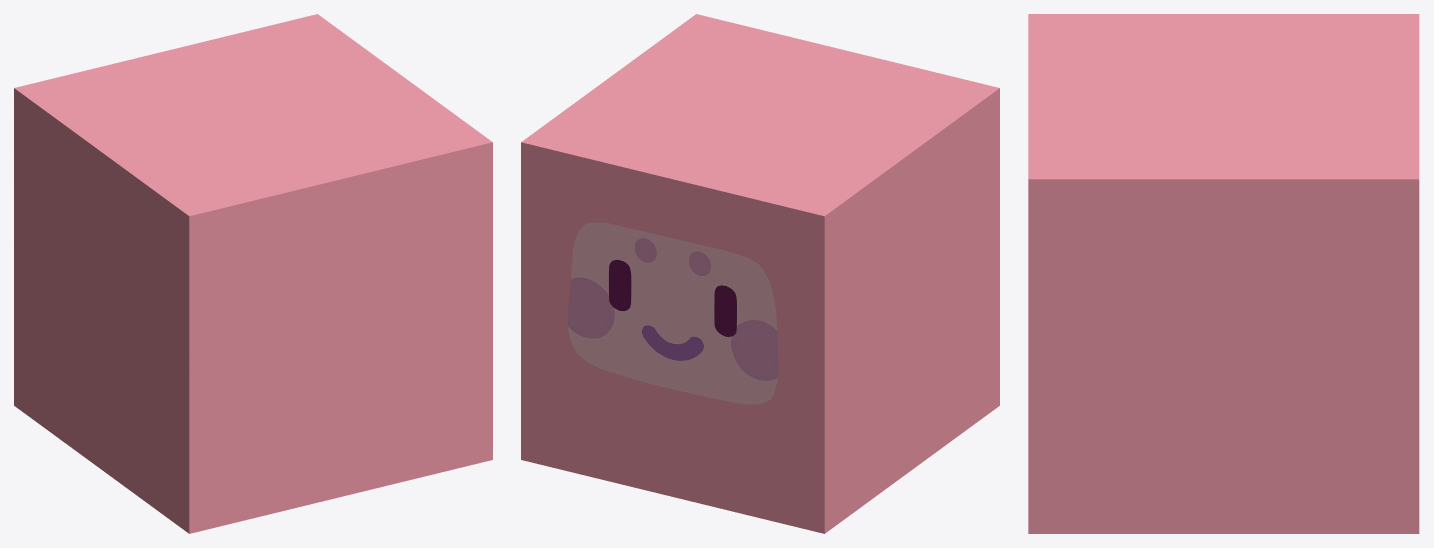
The model's file is Cubbies_nvp.fbx.
The picture shows the model from 3 angles, left to right: view 1: azimuth 30°, elevation 25°; view 2: azimuth 150°, elevation 25°; view 3: azimuth 270°, elevation 25°; orthographic projection. The views are drawn at different scales.
Parts seen in each view (by area): view 1: Nv2; view 2: Nv2; view 3: Nv2.
Boxes of the visible parts, x1,y1,x2,y2 form: Nv2: [14, 14, 492, 533]; Nv2: [521, 14, 999, 533]; Nv2: [1028, 14, 1419, 533].
Size of the model in its own units: 0.9801 by 0.981 by 0.9801.
2 materials, 1 textured.
